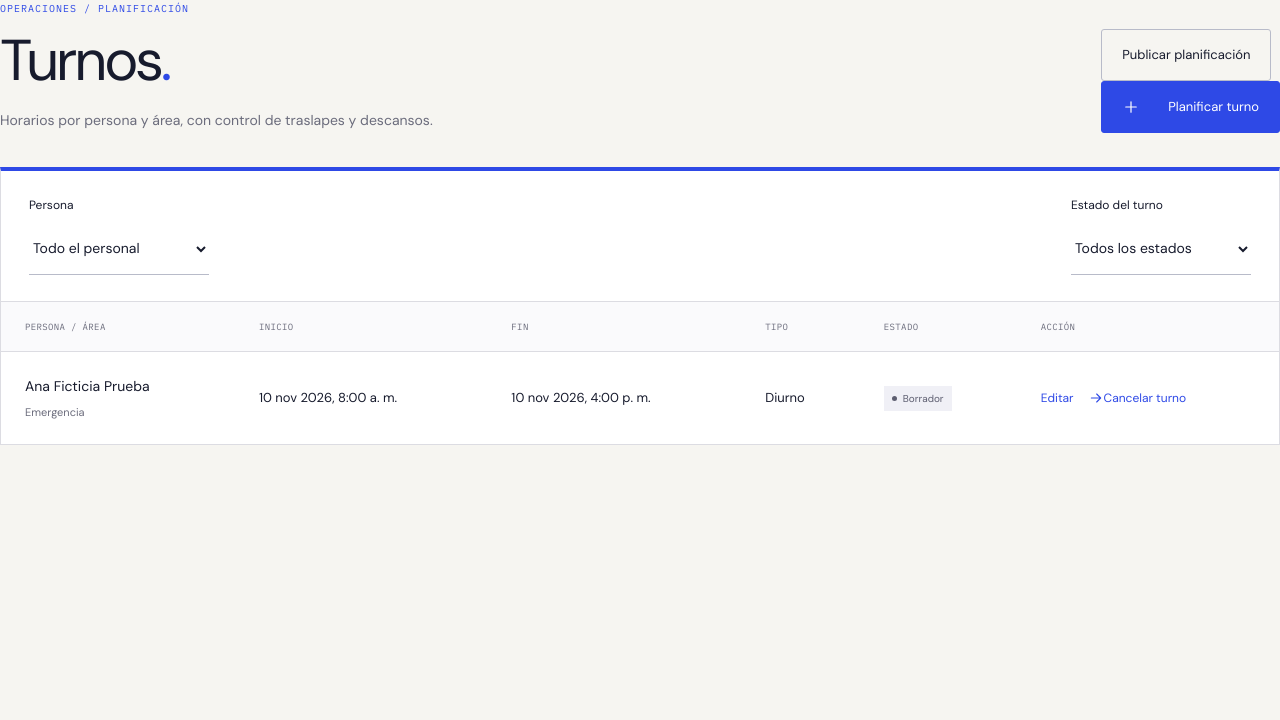
it: turnos · cancelar (PATCH /turnos/{id}) › un conflicto de versión pide recargar en vez de un error genérico
Click the button with aria-label "Cancelar turno de" at (1145, 398), box [1104,376,1186,420]
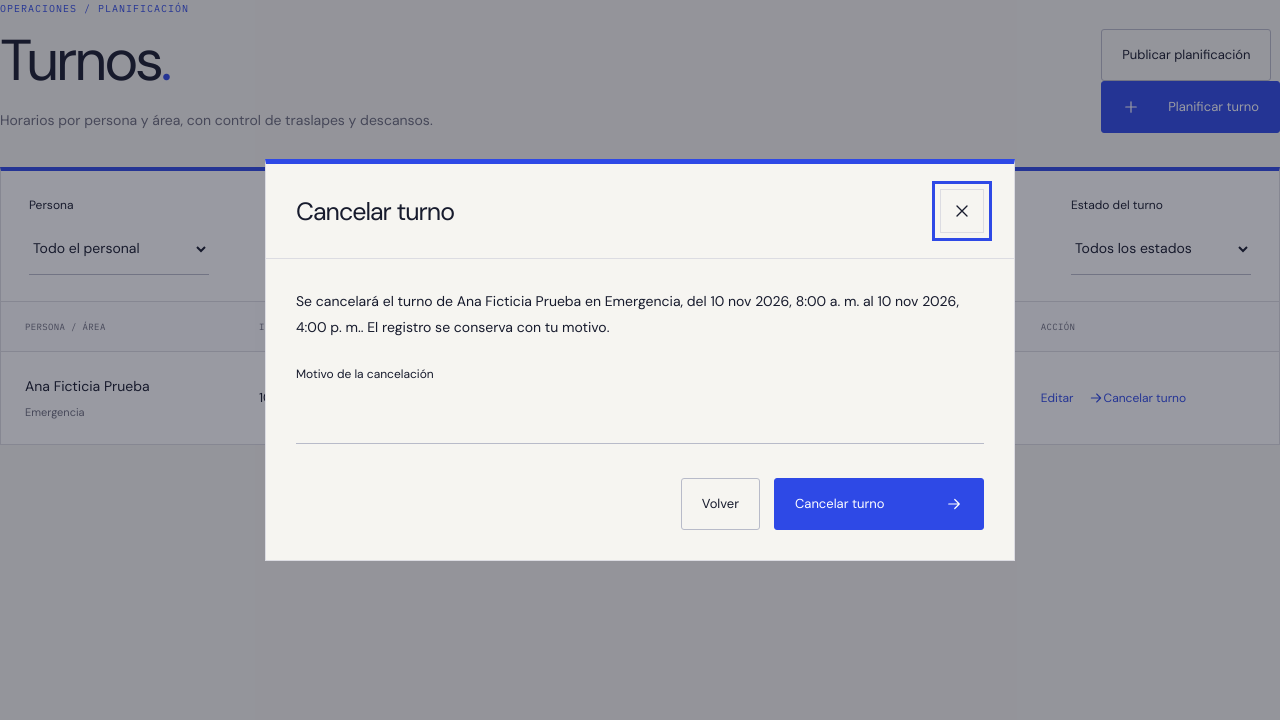
Type "Motivo de prueba suficiente" into the field labelled "Motivo de la cancelación" at (640, 418), box [296,392,984,444]
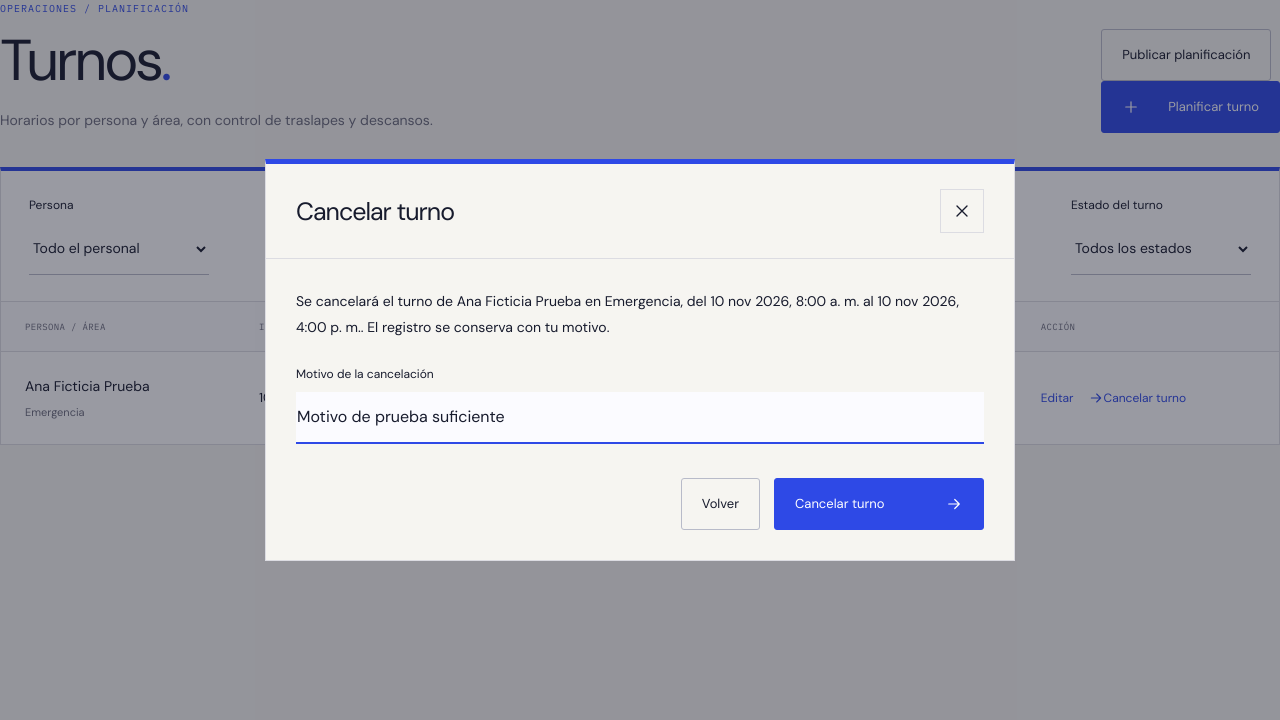
Click the button "Cancelar turno" at (879, 504), box [774,478,984,530]
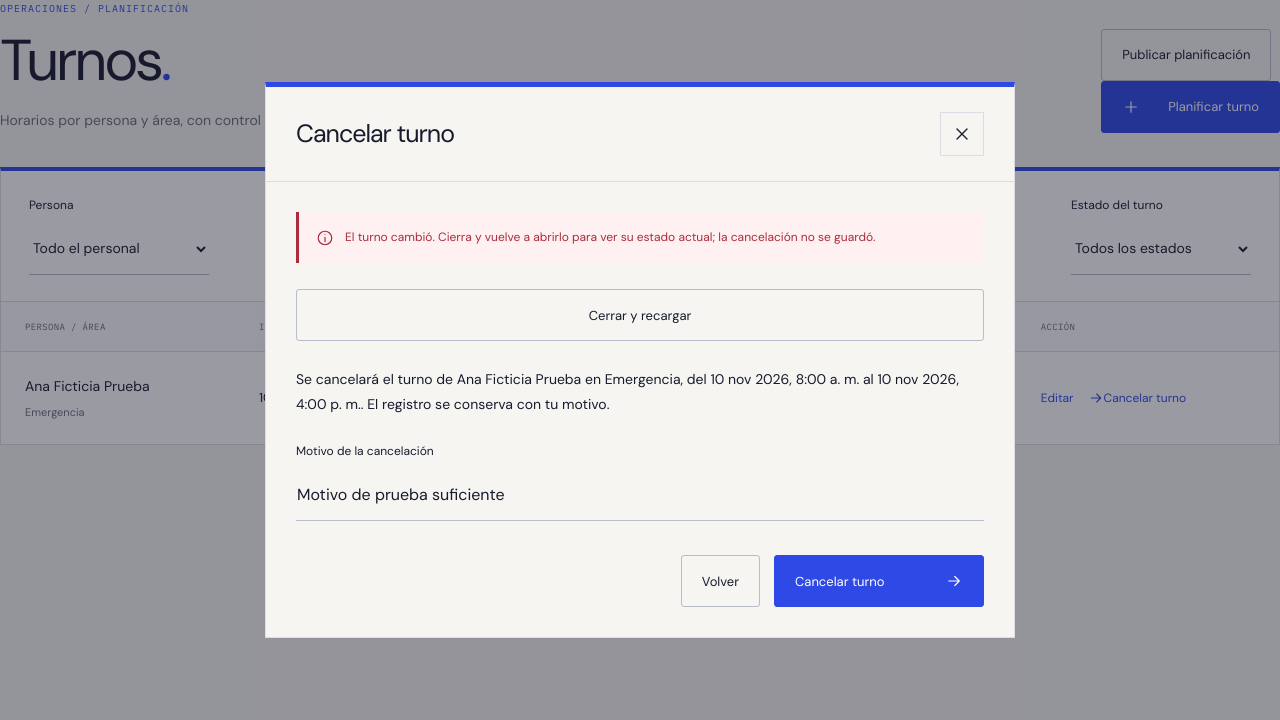
Expected: the button "Cerrar y recargar" is shown, [296,289,984,341]
